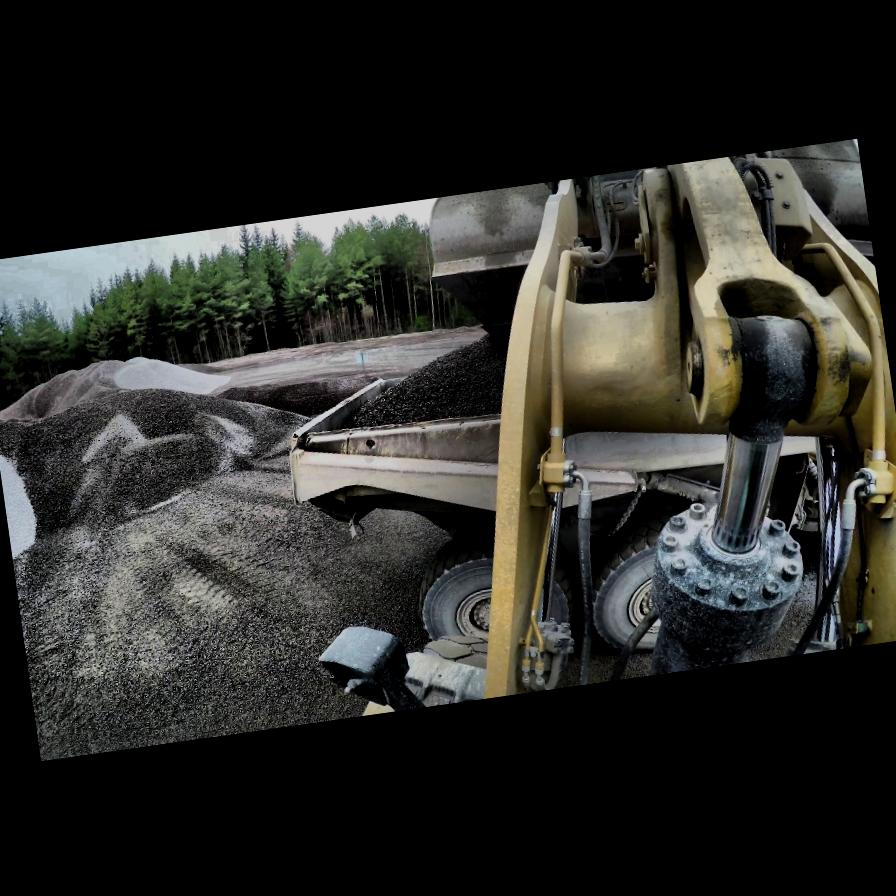anchor: (686, 291, 856, 446)
pile of gravel: (0, 362, 326, 564), (210, 365, 380, 432), (0, 354, 117, 425), (111, 342, 231, 406), (0, 434, 42, 572)
